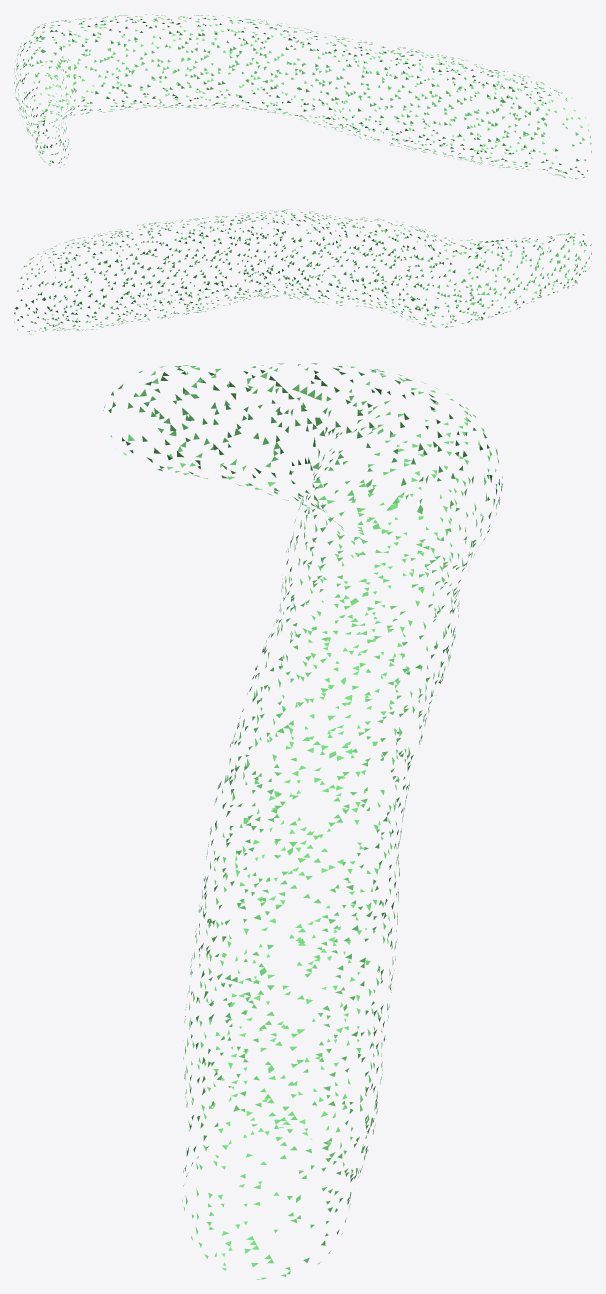
File: morph_018.glb
3 renders of one model, top to bottom at view 1: azimuth 30°, elevation 25°; view 2: azimuth 150°, elevation 25°; view 3: azimuth 270°, elevation 25°, orthographic. The views are drawn at different scales.
Bounding box in the file's own units: 119 × 48.54 × 39.2.
